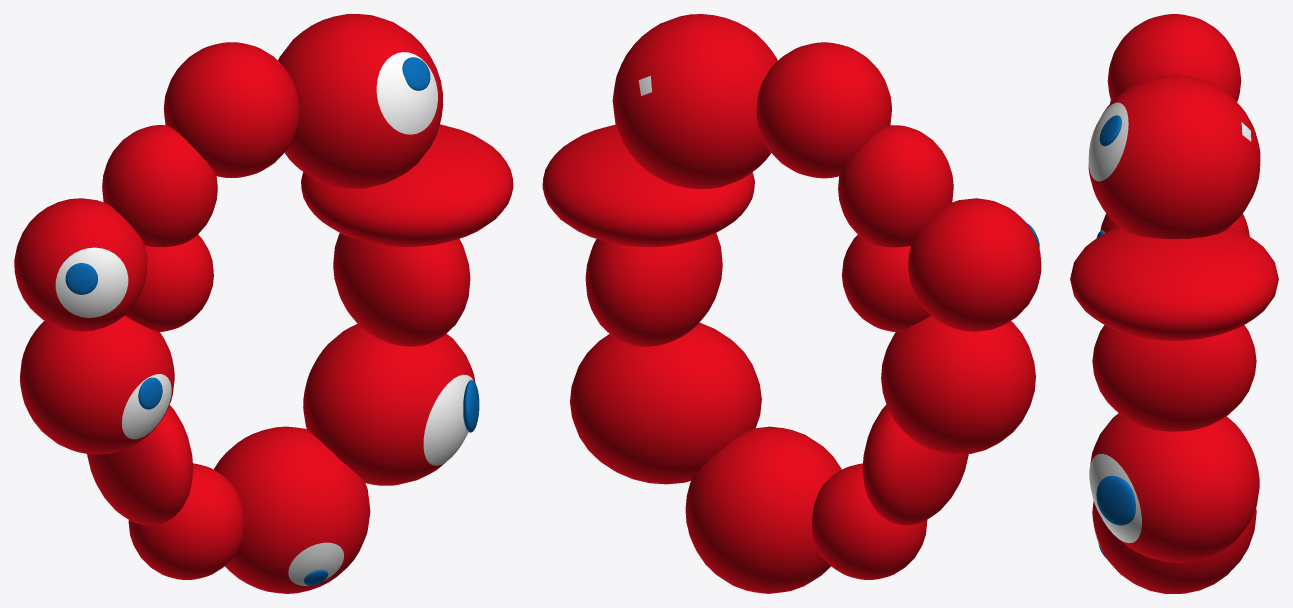
Rendered from EXPO2025_eye.glb.
3 renders of one model, left to right at view 1: azimuth 30°, elevation 25°; view 2: azimuth 150°, elevation 25°; view 3: azimuth 270°, elevation 25°, orthographic.
Parts seen in each view (by area): view 1: 球.002, 球.011, 球.010, 球.007, 球.001, 球, 球.006, 球.012, 球.009, 球.008, 球.003, 球.005 (+4 smaller); view 2: 球.011, 球.002, 球.010, 球.007, 球.001, 球.006, 球, 球.012, 球.009, 球.008, 球.003, 球.005 (+1 smaller); view 3: 球.002, 球.001, 球.011, 球.012, 球, 球.010, Hitomi_Blue_2, Hitomi_Blue_1, 球.007.
Part boxes in pixels (x1,y1,x2,y2): 球.002: [278, 14, 443, 188]; 球.011: [303, 324, 475, 485]; 球.010: [214, 426, 370, 593]; 球.007: [20, 316, 174, 454]; 球.001: [301, 124, 513, 246]; 球: [163, 42, 299, 177]; 球.006: [14, 198, 147, 331]; 球.012: [333, 233, 470, 346]; 球.009: [128, 463, 243, 579]; 球.008: [87, 405, 193, 525]; 球.003: [102, 131, 194, 247]; 球.005: [125, 234, 213, 331]; 球.011: [570, 322, 761, 484]; 球.002: [612, 14, 777, 188]; 球.010: [685, 426, 841, 593]; 球.007: [881, 315, 1035, 454]; 球.001: [542, 124, 754, 247]; 球.006: [908, 198, 1041, 331]; 球: [756, 42, 891, 178]; 球.012: [585, 233, 722, 346]; 球.009: [812, 463, 927, 579]; 球.008: [862, 404, 968, 525]; 球.003: [861, 131, 953, 247]; 球.005: [842, 235, 930, 332]; 球.002: [1088, 75, 1260, 238]; 球.001: [1070, 227, 1278, 340]; 球.011: [1089, 413, 1259, 562]; 球.012: [1092, 325, 1256, 431]; 球: [1107, 14, 1241, 101]; 球.010: [1092, 501, 1256, 593]; Hitomi_Blue_2: [1096, 475, 1135, 525]; Hitomi_Blue_1: [1099, 115, 1121, 146]; 球.007: [1100, 213, 1249, 236].
Size of the model in its own units: 1.01 by 1.11 by 0.3903.
